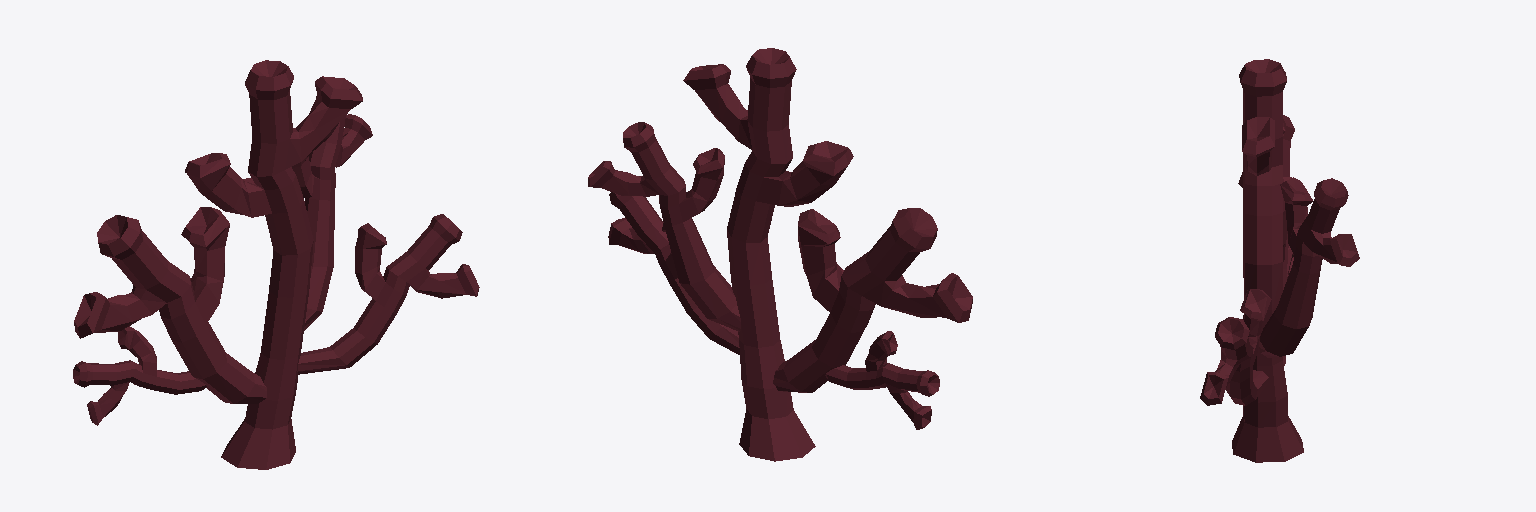
The model's file is coral1.obj.
The picture shows the model from 3 angles: view 1: azimuth 30°, elevation 25°; view 2: azimuth 150°, elevation 25°; view 3: azimuth 270°, elevation 25°; orthographic projection.
Parts seen in each view (by area): view 1: pCylinder6; view 2: pCylinder6; view 3: pCylinder6.
Part boxes in pixels (left/top/right/bottom): pCylinder6: left=73, top=60, right=479, bottom=469; pCylinder6: left=588, top=48, right=972, bottom=461; pCylinder6: left=1200, top=59, right=1359, bottom=462.
Size of the model in its own units: 28.66 by 27.79 by 10.46.